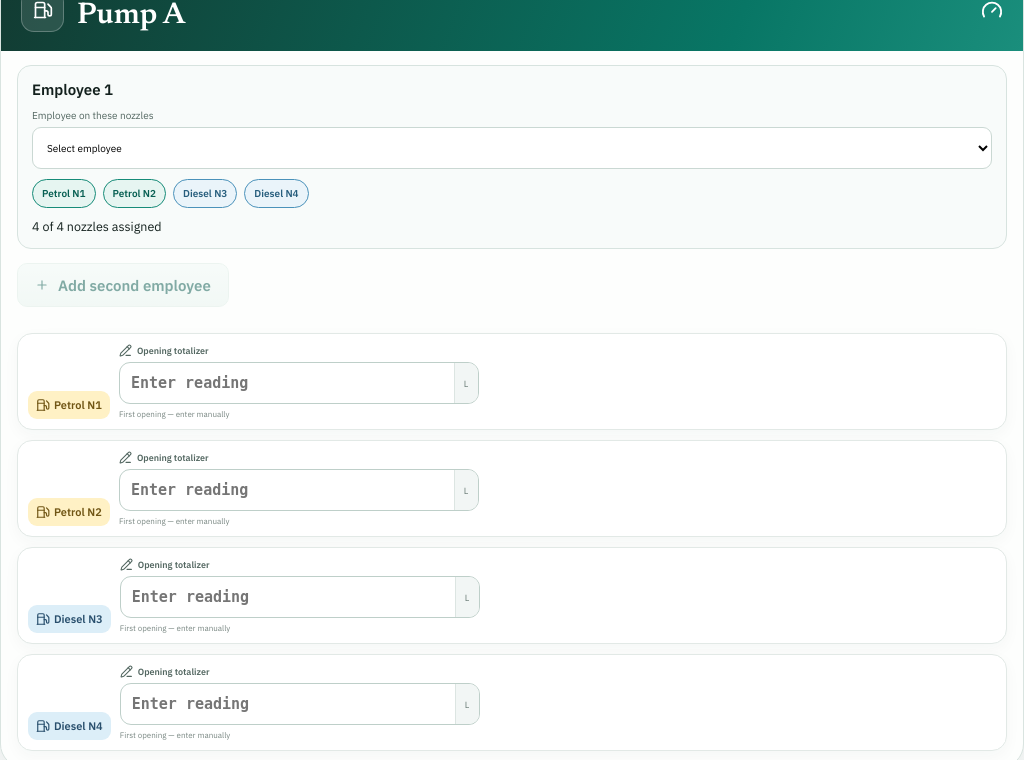
Scenario: DailyForecourtSheet › keeps each backfilled day's draft separate so switching the date field doesn't carry one day's typed readings into another
(page scrolled)
In the number field named "A-N1 opening totalizer": [287, 383] box [120,364,454,402], type "5000"
(page scrolled)
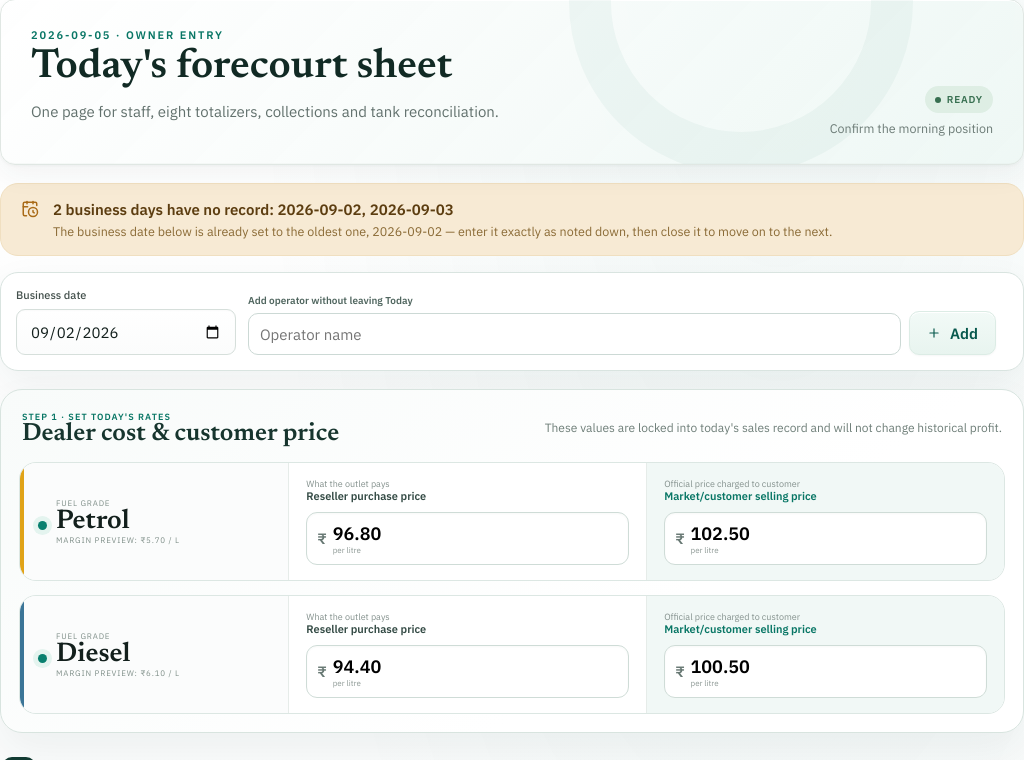
In the date field labelled "Business date": [126, 332] box [16,309,236,355], type "2026-09-03"
(page scrolled)
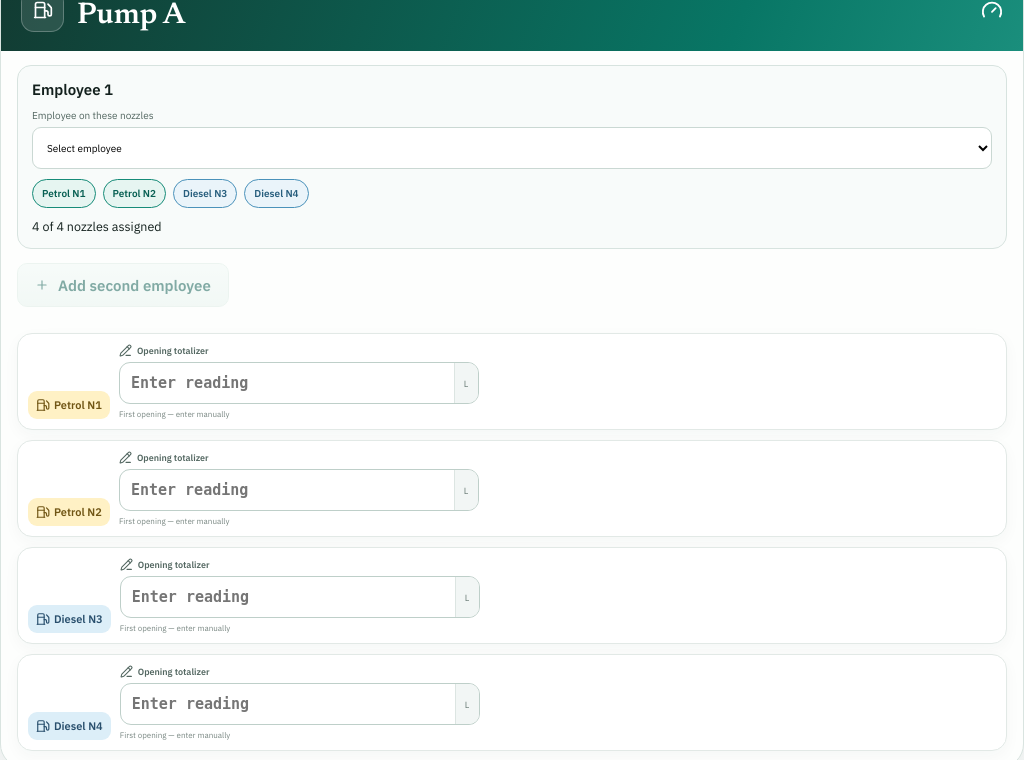
expect the number field named "A-N1 opening totalizer" is not empty: met, box [120,364,454,402]
